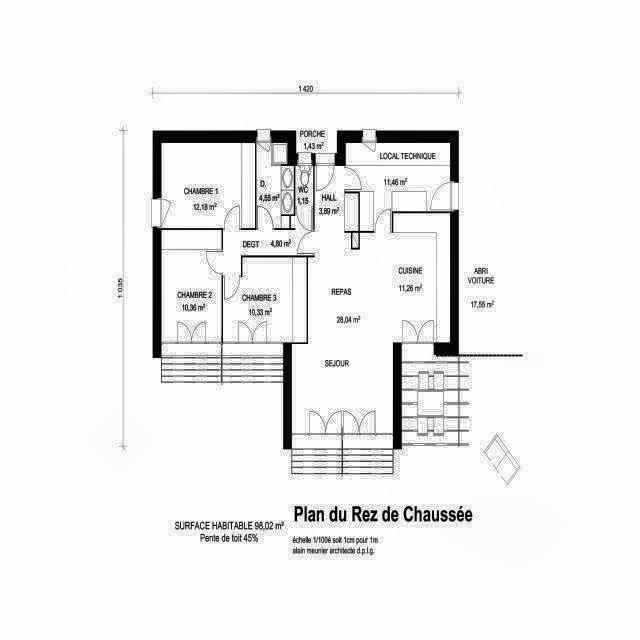room: (292, 166, 450, 433), (346, 143, 450, 231), (211, 204, 325, 279), (162, 143, 255, 228), (223, 257, 307, 342), (161, 230, 222, 342), (256, 143, 294, 228), (295, 166, 313, 206)
